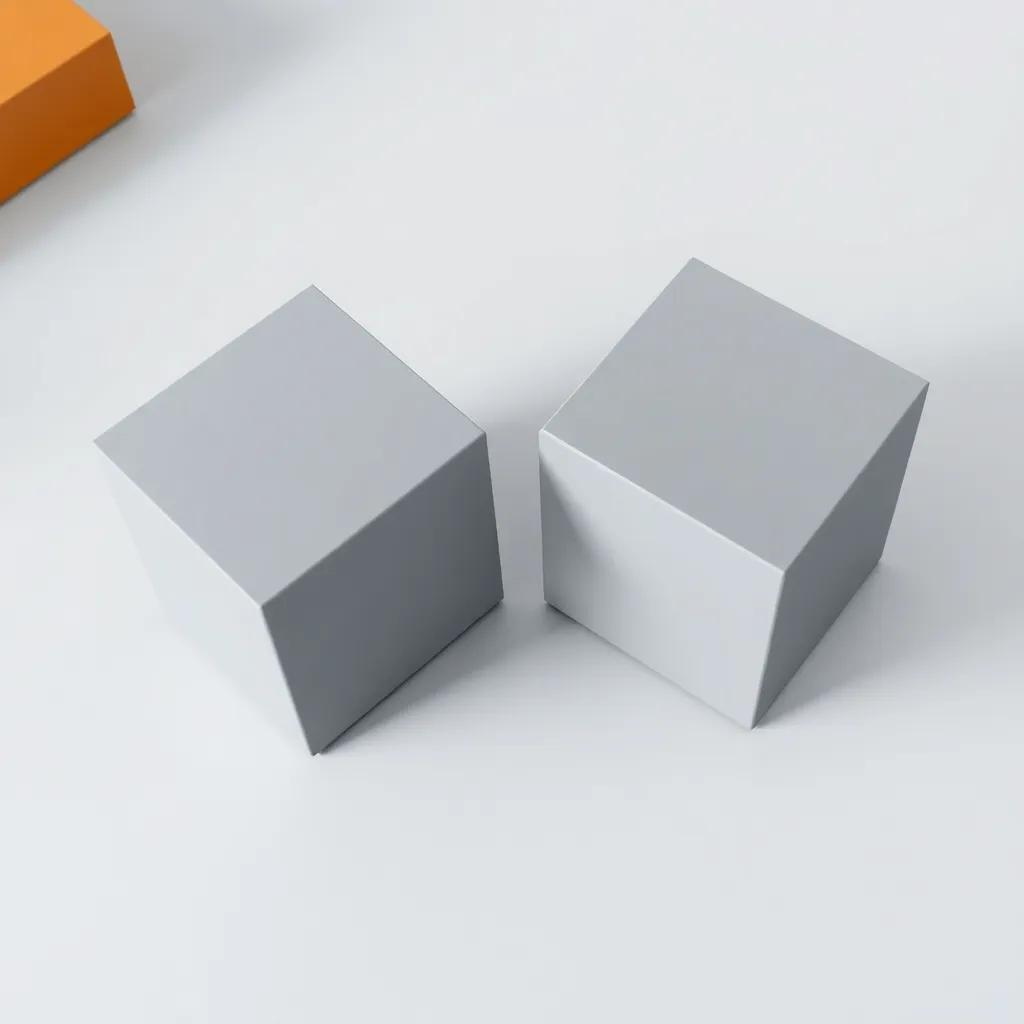cube: (92, 281, 505, 755), (536, 254, 929, 730)
